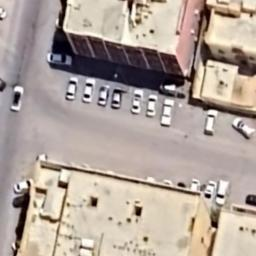SUV: (214, 176, 229, 208)
sedan: (42, 47, 76, 68), (7, 84, 28, 112), (232, 116, 255, 140), (8, 176, 38, 194), (82, 75, 97, 104), (160, 99, 174, 127), (64, 75, 79, 100), (96, 84, 110, 110), (130, 88, 144, 114), (110, 85, 122, 111), (146, 92, 158, 118), (203, 180, 217, 202), (206, 111, 218, 135)
